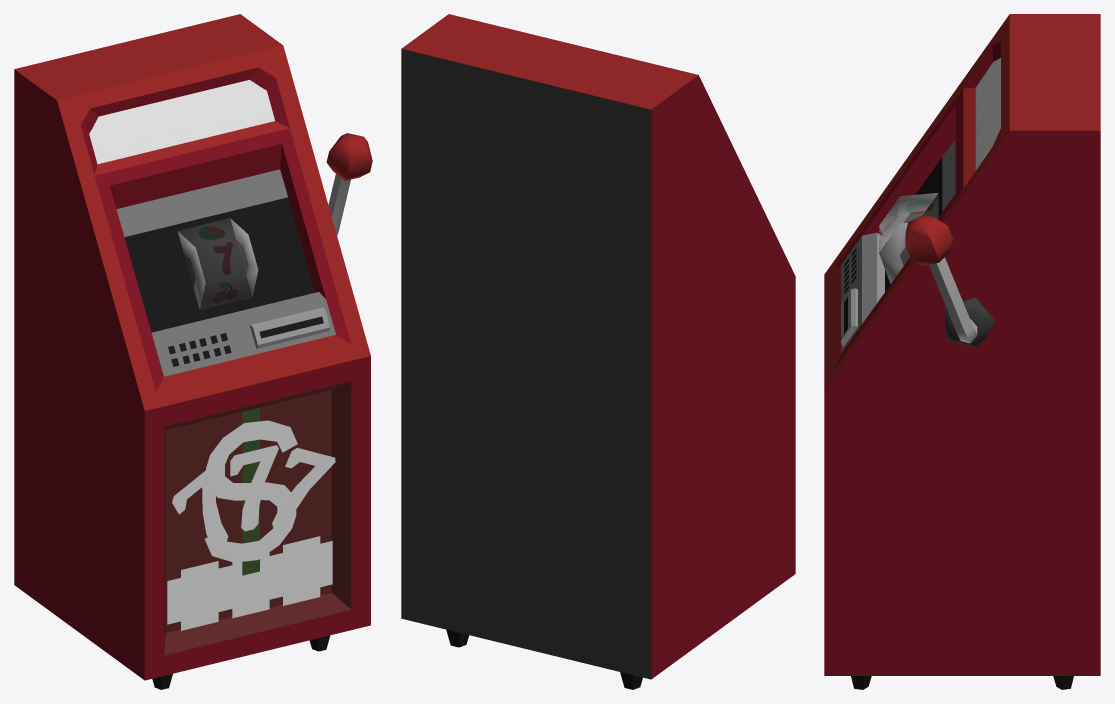
Rendered from SlotMachine.fbx.
The picture shows the model from 3 angles, left to right: view 1: azimuth 30°, elevation 25°; view 2: azimuth 150°, elevation 25°; view 3: azimuth 270°, elevation 25°; orthographic projection. The views are drawn at different scales.
Parts seen in each view (by area): view 1: SlotMachine, SlotMachineWheel; view 2: SlotMachine; view 3: SlotMachine, SlotMachineWheel.
Part boxes in pixels (bbox=[...]): SlotMachine: bbox=[14, 14, 372, 689]; SlotMachineWheel: bbox=[177, 218, 258, 309]; SlotMachine: bbox=[401, 14, 795, 689]; SlotMachine: bbox=[824, 14, 1100, 689]; SlotMachineWheel: bbox=[879, 193, 938, 283].
Bounding box in the file's own units: 0.854 × 1.62 × 0.7055.
